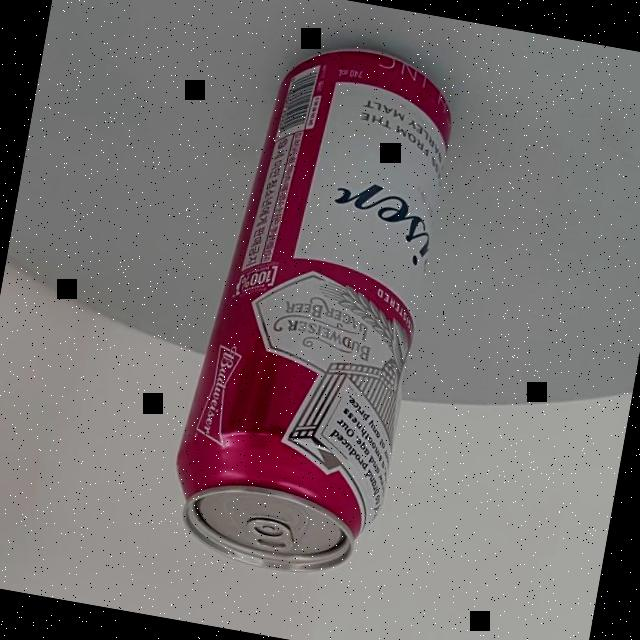can: (161, 30, 463, 588)
